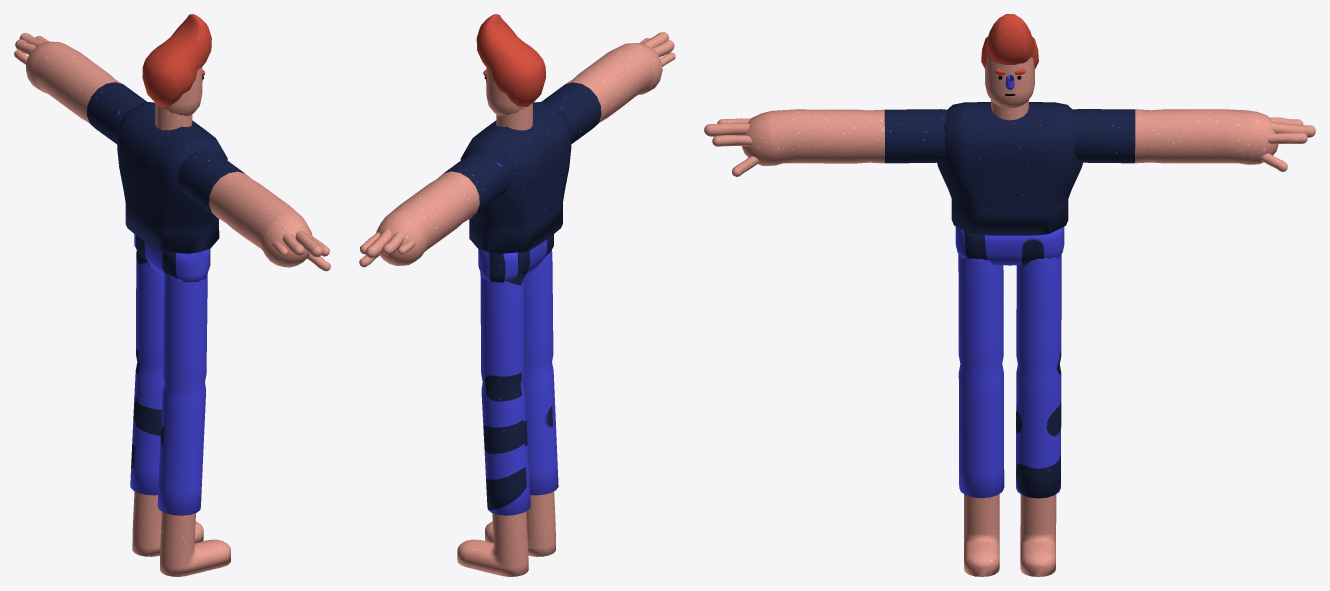
The model's file is avatars_tposing_buff_guy.glb.
3 renders of one model, left to right at view 1: azimuth 30°, elevation 25°; view 2: azimuth 150°, elevation 25°; view 3: azimuth 270°, elevation 25°, orthographic. The views are drawn at different scales.
Visible parts, largest first — view 1: mesh_char_069; view 2: mesh_char_069; view 3: mesh_char_069.
Part boxes in pixels (box(x1,y1,x2,y2)): mesh_char_069: box(14, 14, 330, 576); mesh_char_069: box(359, 14, 675, 576); mesh_char_069: box(704, 14, 1315, 576).
Size of the model in its own units: 0.8949 by 6.2 by 6.23.
1 material, 1 textured.
